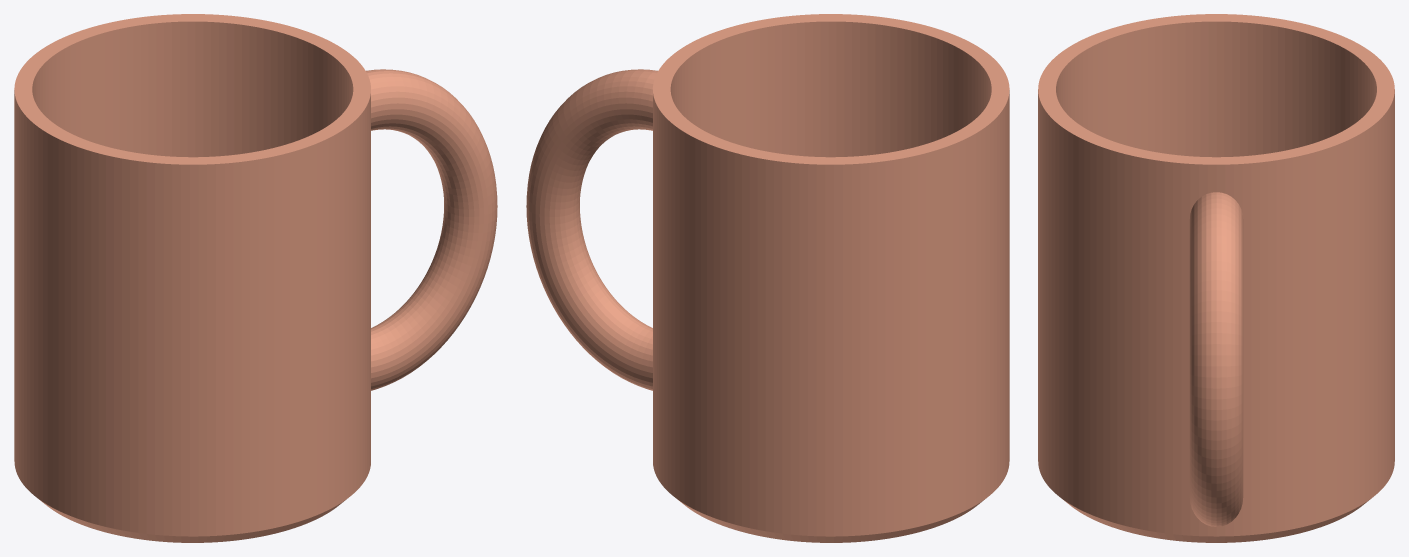
File: mug.glb
3 renders of one model, left to right at view 1: azimuth 30°, elevation 25°; view 2: azimuth 150°, elevation 25°; view 3: azimuth 270°, elevation 25°, orthographic.
Visible parts, largest first — view 1: geometry_0; view 2: geometry_0; view 3: geometry_0.
Part boxes in pixels (<box>): geometry_0: <box>14,14,497,542</box>; geometry_0: <box>526,14,1009,542</box>; geometry_0: <box>1038,14,1394,542</box>.
Size of the model in its own units: 0.118 by 0.095 by 0.08.
